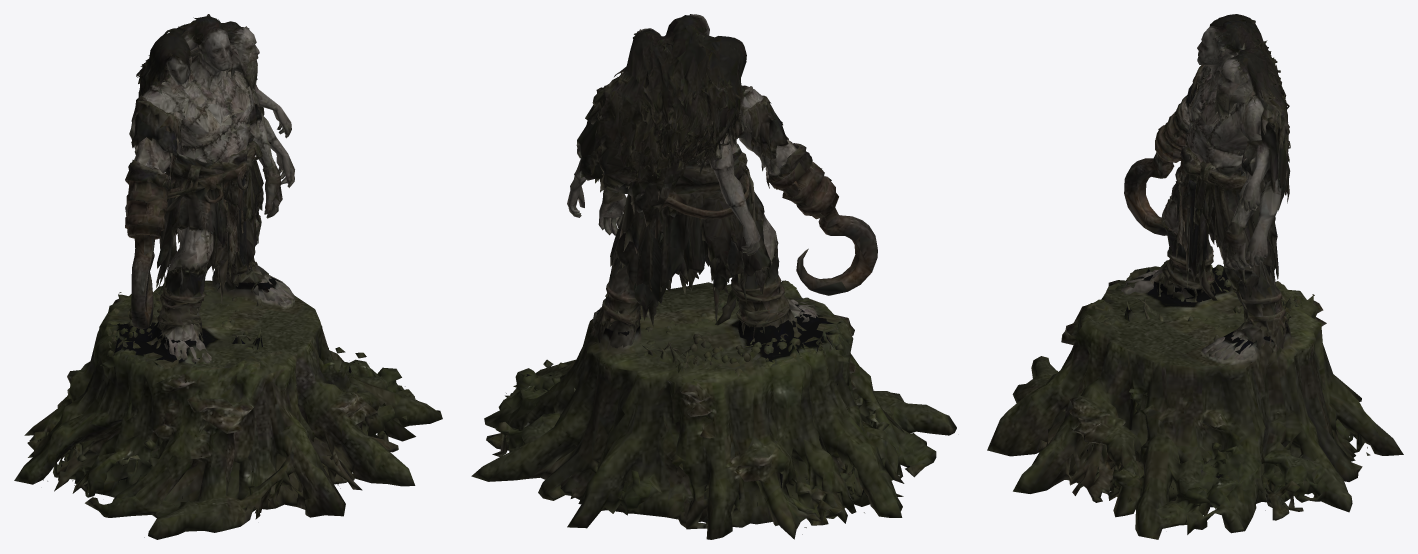
Rendered from warden-meshy.glb.
3 views of the same model, side by side, from view 1: azimuth 30°, elevation 25°; view 2: azimuth 150°, elevation 25°; view 3: azimuth 270°, elevation 25° (orthographic). The views are drawn at different scales.
Visible parts, largest first — view 1: warden-meshy_lod0; view 2: warden-meshy_lod0; view 3: warden-meshy_lod0.
Boxes of the visible parts, bbox=[...] form: warden-meshy_lod0: bbox=[14, 14, 442, 539]; warden-meshy_lod0: bbox=[471, 14, 956, 539]; warden-meshy_lod0: bbox=[987, 14, 1403, 539].
Size of what is drawn, in the model's own units: 1.88 by 1.9 by 1.7.
2 materials, 2 textured.
